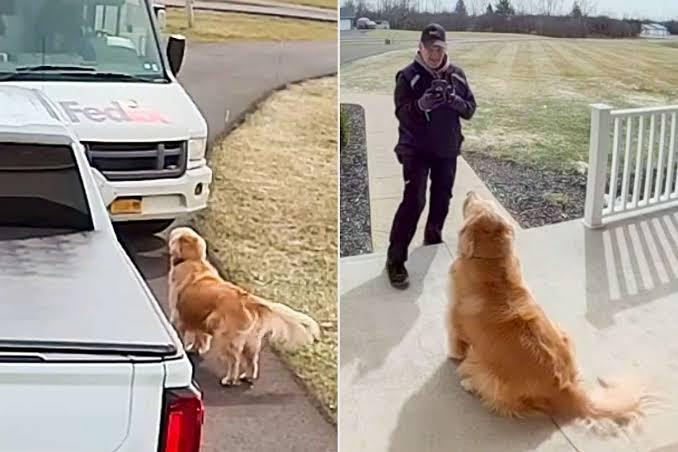adult_dog: (444, 187, 667, 438), (161, 224, 326, 390)
non-dog: (386, 24, 476, 292)
